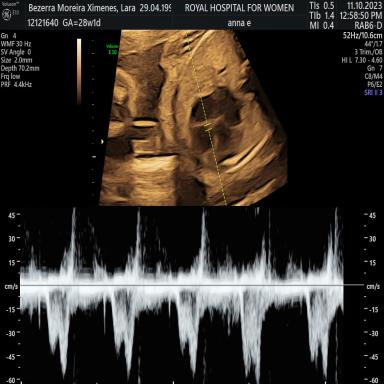Ultrasound-Waves: (27, 208, 345, 384)
